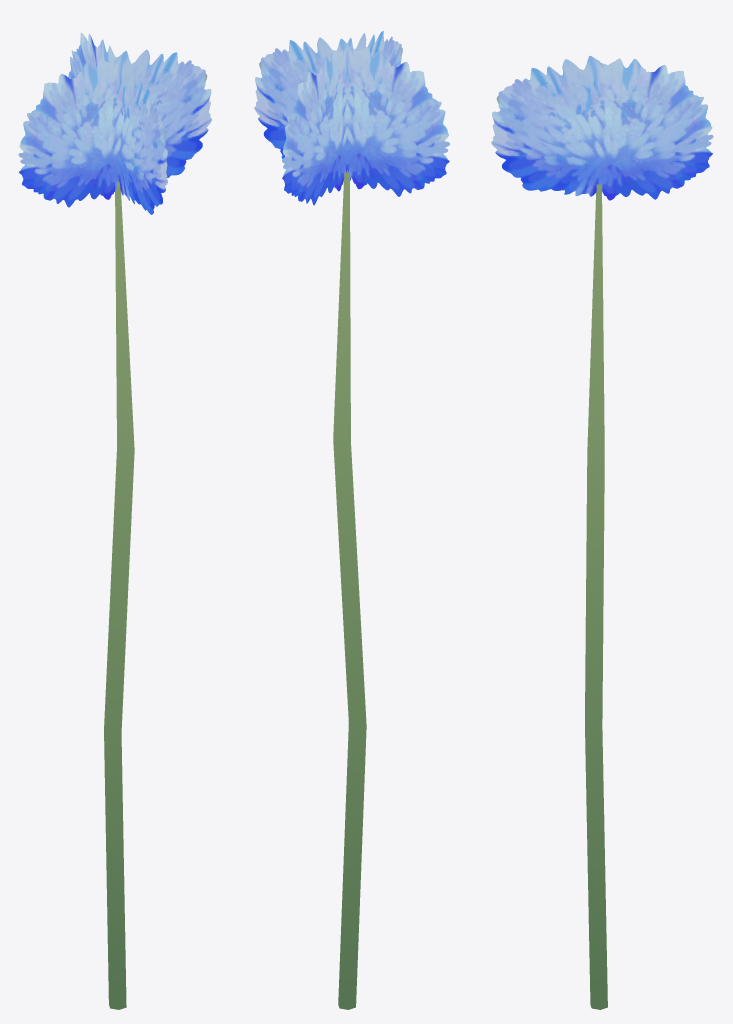
File: cornflower.fbx
3 views of the same model, side by side, from view 1: azimuth 30°, elevation 25°; view 2: azimuth 150°, elevation 25°; view 3: azimuth 270°, elevation 25° (orthographic).
Visible parts, largest first — view 1: cornflower_low; view 2: cornflower_low; view 3: cornflower_low.
Boxes of the visible parts, bbox=[...] form: cornflower_low: bbox=[18, 32, 211, 1009]; cornflower_low: bbox=[254, 31, 449, 1009]; cornflower_low: bbox=[491, 55, 713, 1009].
Bounding box in the file's own units: 51.32 × 230 × 51.24.
